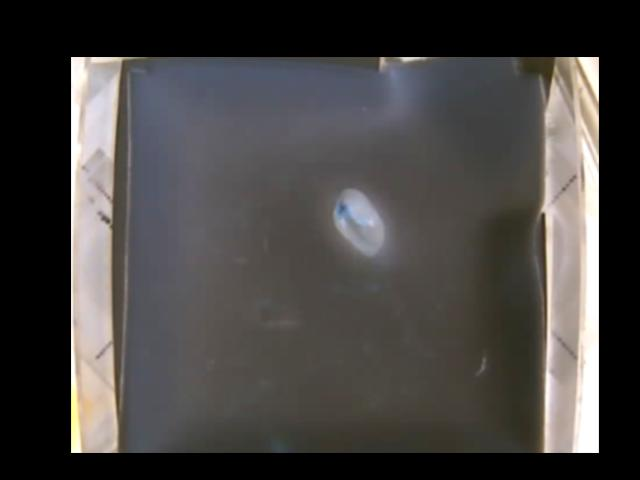Pebble: (332, 189, 386, 259)
